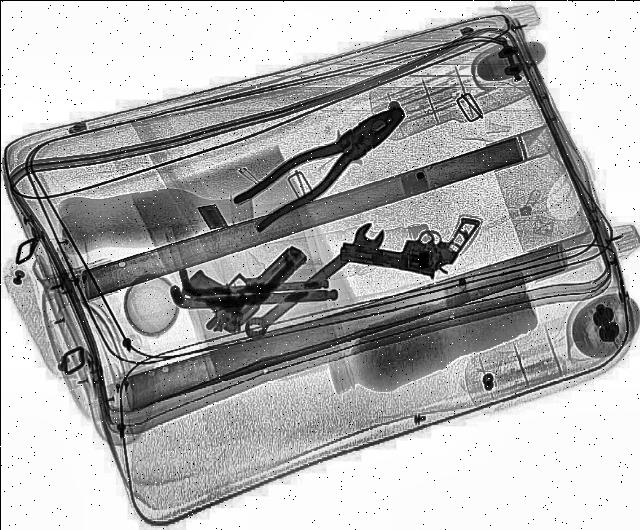Gun: (163, 219, 311, 341), (336, 198, 482, 282)
Pliers: (224, 94, 426, 234)
Wrench: (236, 221, 394, 346)
